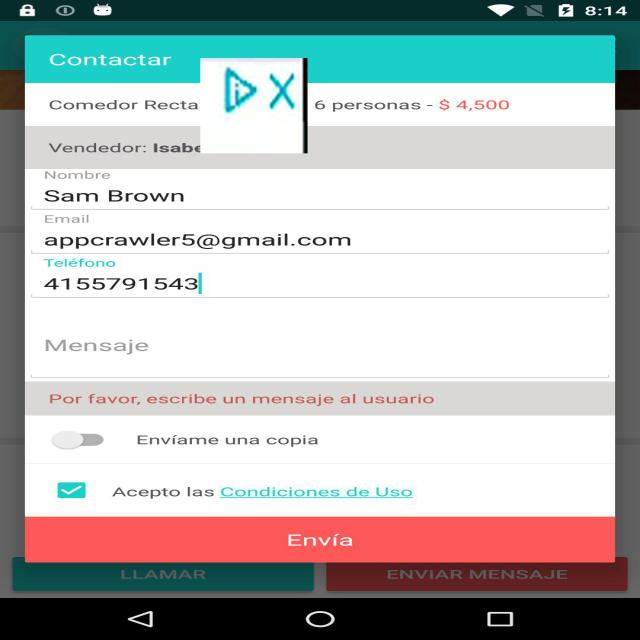sneaking: (200, 58, 308, 153)
